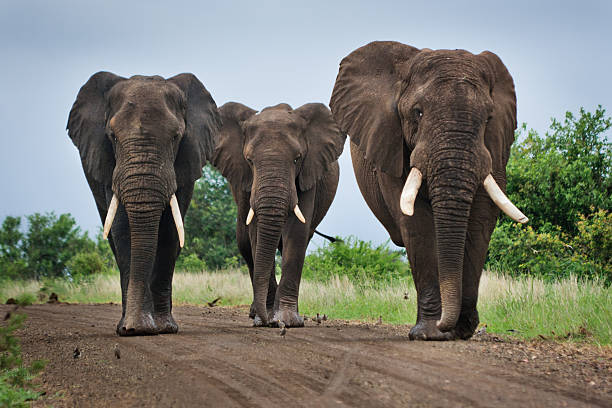africanelephant: (377, 51, 532, 240), (85, 71, 199, 256), (232, 110, 323, 235)
